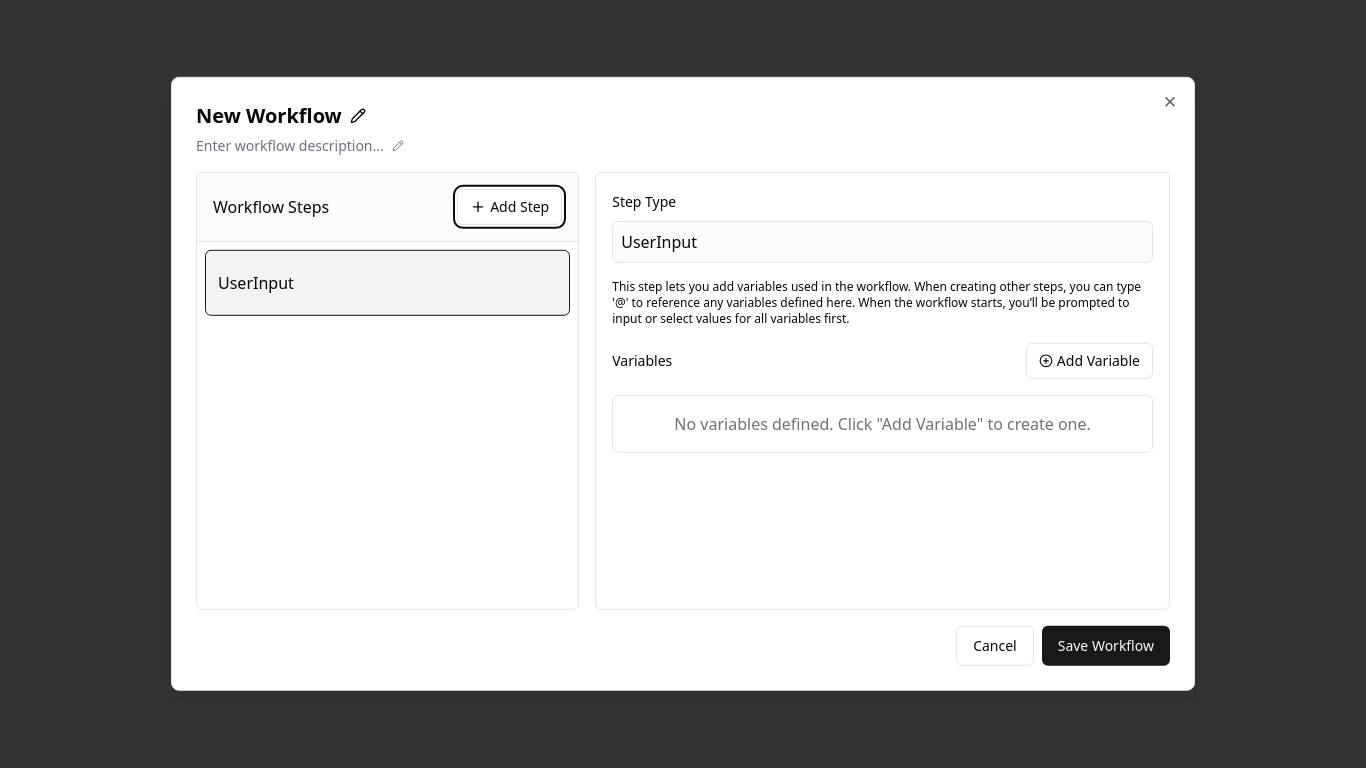
Workflow Description › should switch to edit mode and update description
Expected: the heading "Workflow Steps" is shown, [213,195,329,219]
Click the text "Enter workflow description...".
click(290, 146)  # box [196,136,384,156]
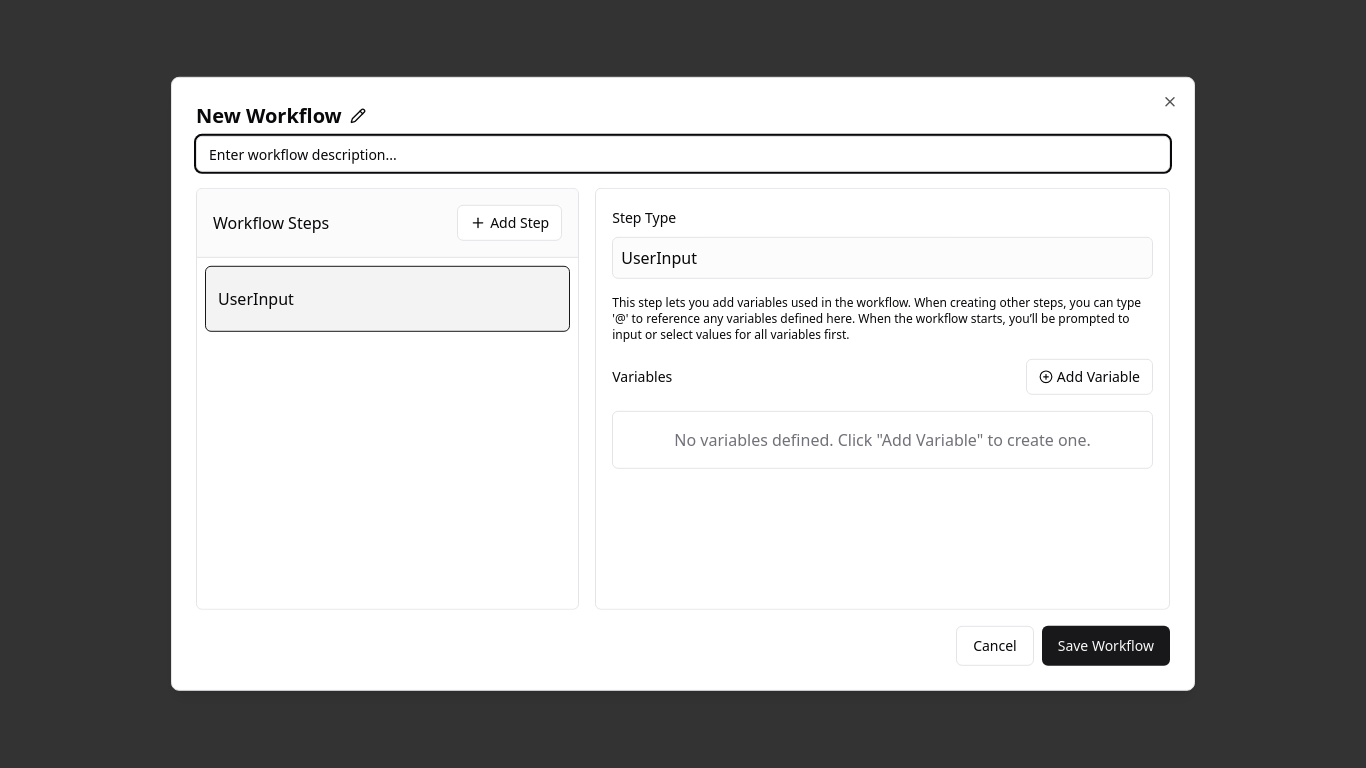
Expected: the field with placeholder "Enter workflow description" is shown
Expected: the field with placeholder "Enter workflow description" holds "Enter workflow description..."
Replace the text in the field with placeholder "Enter workflow description" with "New fancy description" at (683, 154), box [196,136,1170,172]
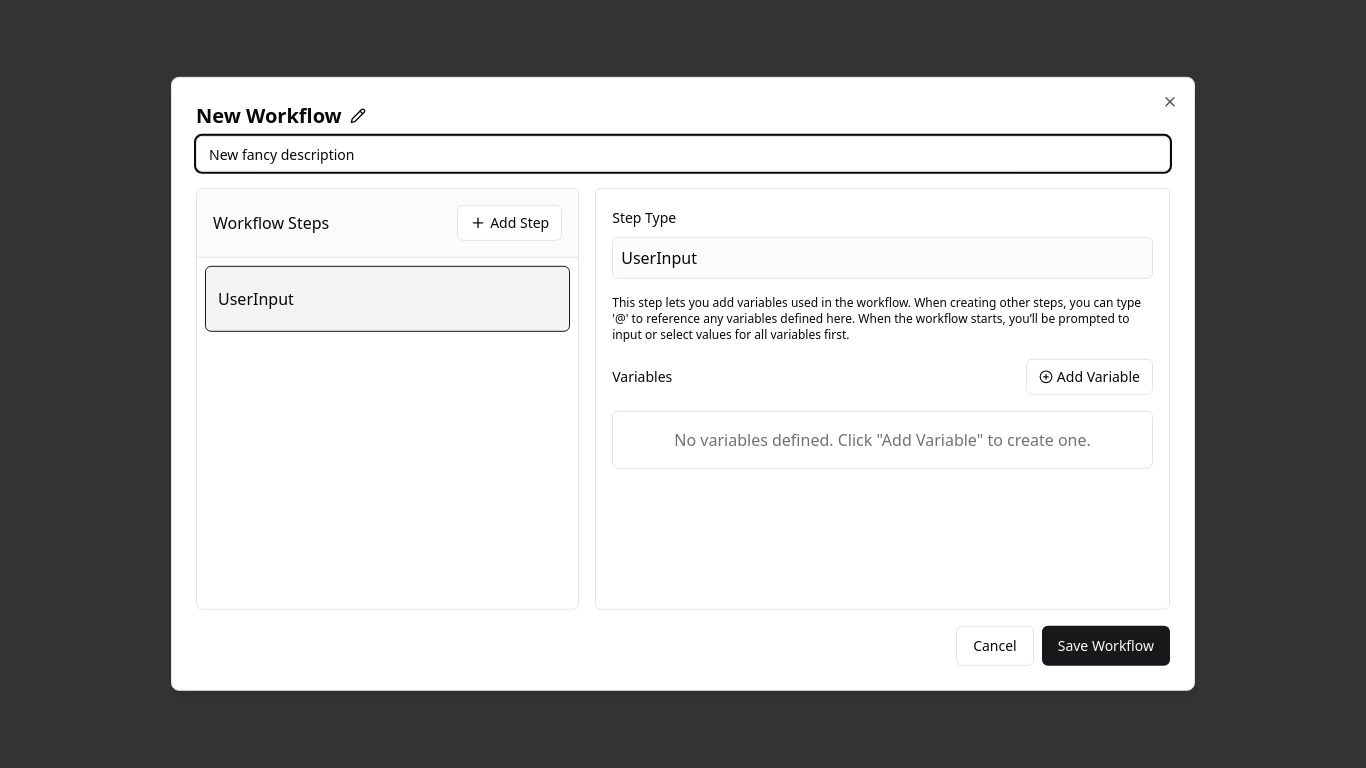
Press Tab
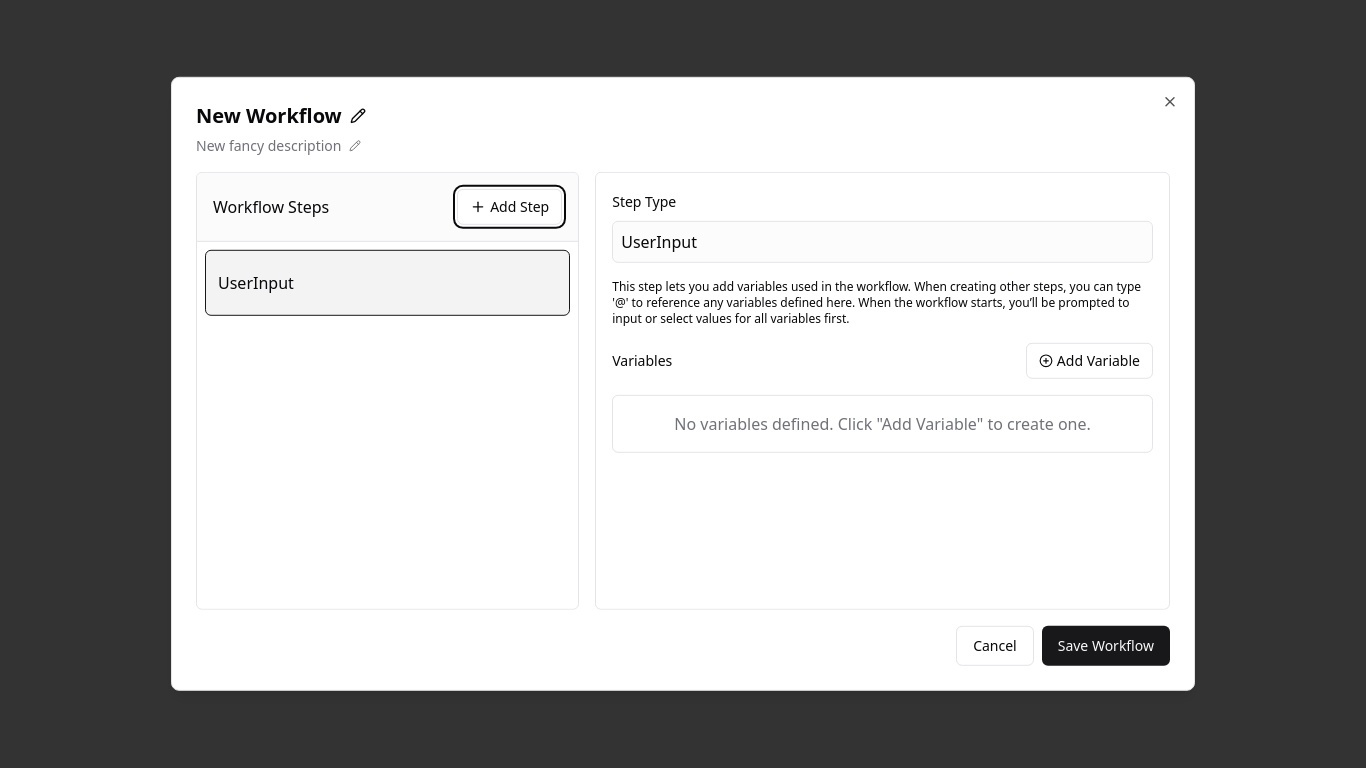
Expected: the text with placeholder "Enter workflow description" is not shown
Expected: the text "New fancy description" is shown, [196,136,342,156]
